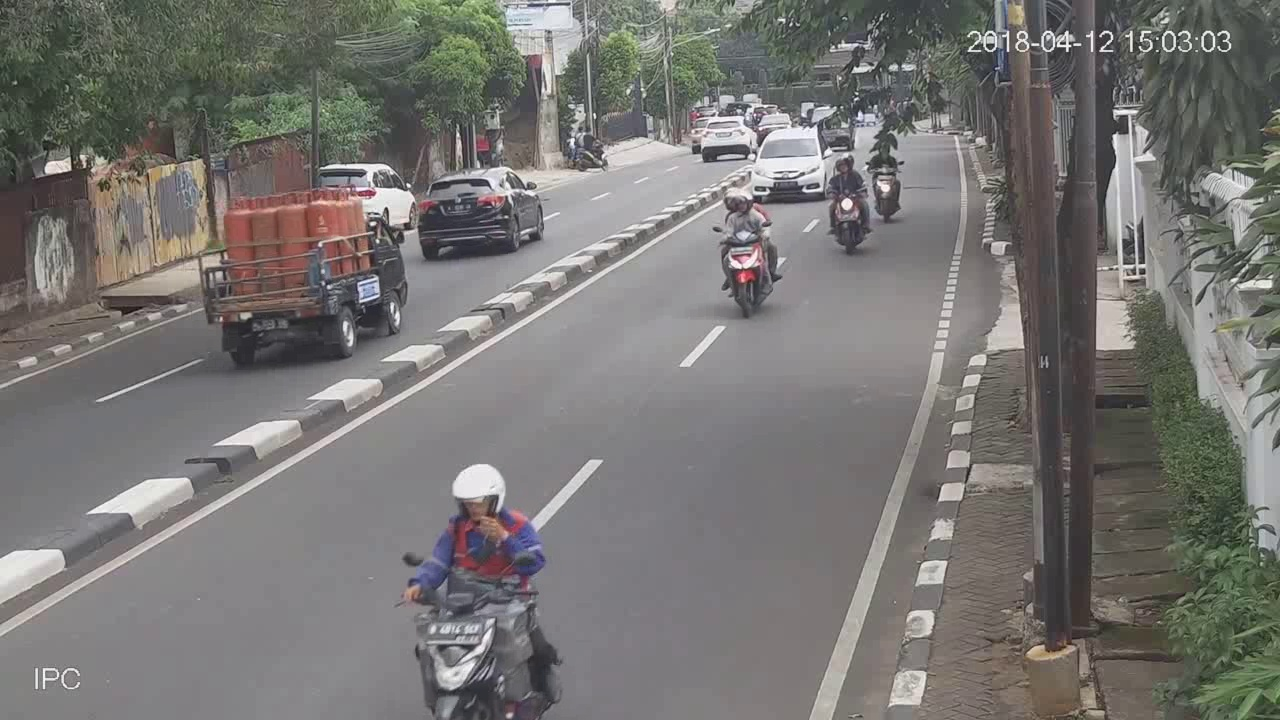car: (418, 159, 551, 264), (750, 127, 823, 205), (701, 116, 751, 161)
motorcycle: (381, 457, 567, 720), (707, 184, 788, 324), (823, 149, 874, 261), (864, 134, 910, 228)
truck: (195, 184, 410, 362)
